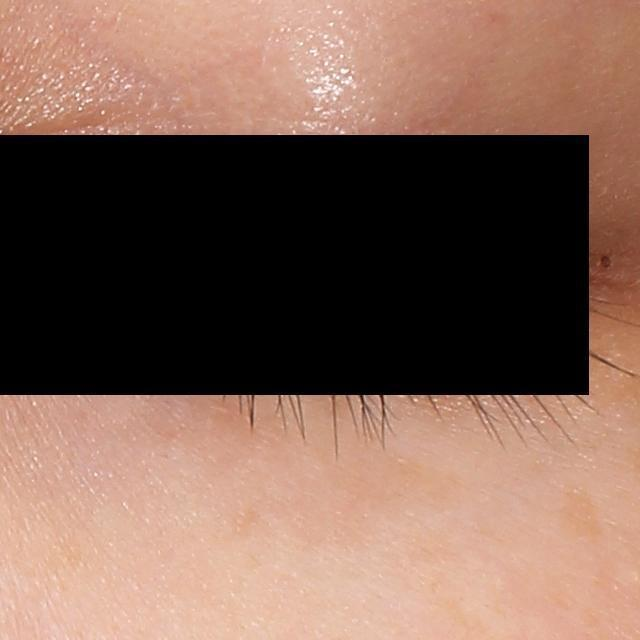melasma: (323, 455, 467, 528), (43, 542, 106, 603), (555, 487, 603, 542)
